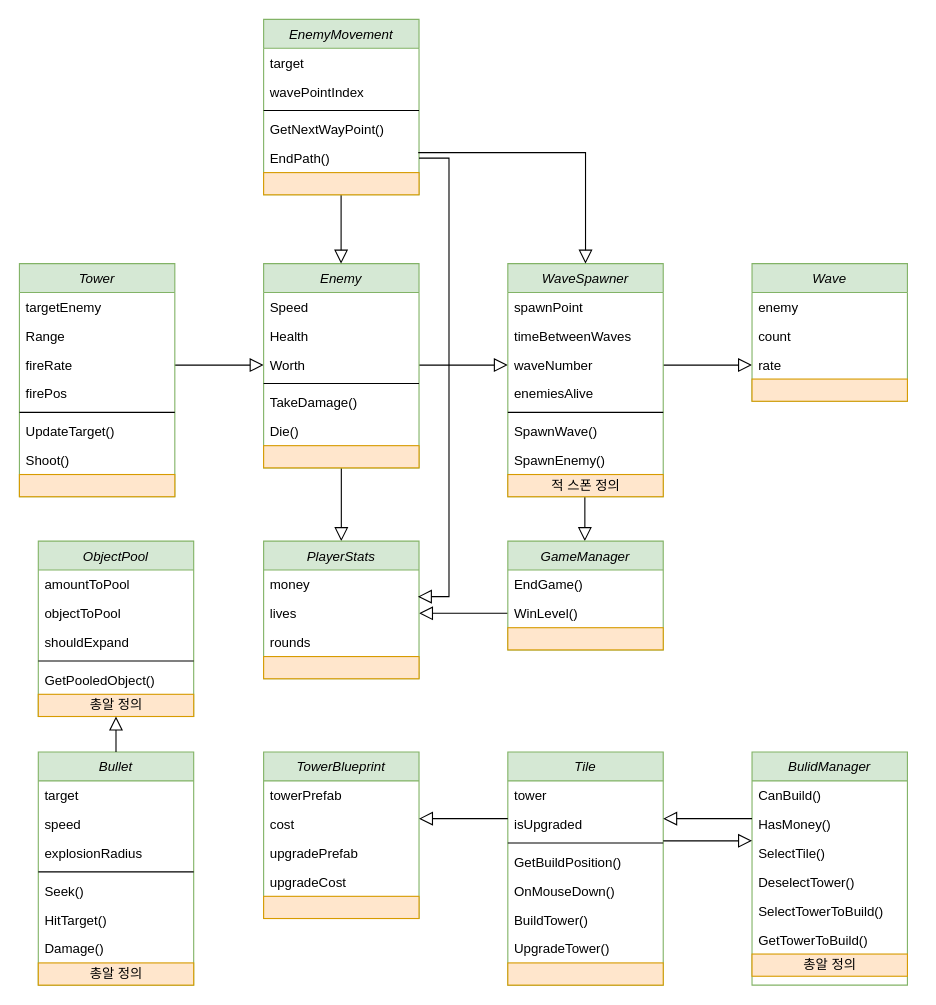
Image size: 936x1005. Some labels were removed from this diagram. The centre of each missing label's shape, as x and y in pixels:
스테이지 정의: pixel 829 389
인게임 관리 정의: pixel 585 638
적 속성 정의: pixel 341 456
적 이동 정의: pixel 341 183
타워 설치 타일 정의: pixel 585 973
타워 속성 정의: pixel 96 485
타워 정의: pixel 341 907
플레이어 상태 정의: pixel 341 667
